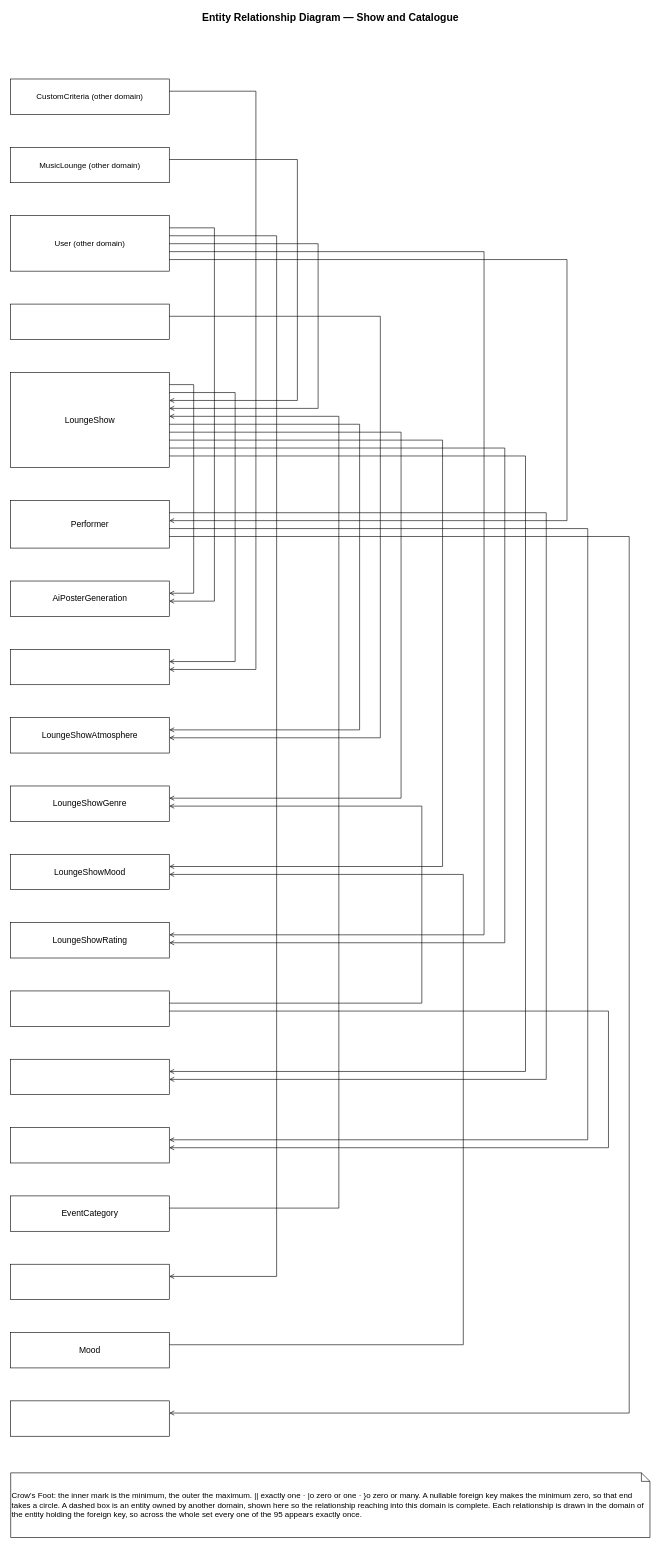
Some shapes in this 661 by 1548 pixel diagram are drawn without their labels. Each missing label, with the box of its shape:
EventCustomValue: (10, 649, 169, 685)
EventModeration: (10, 1264, 169, 1300)
MusicGenre: (10, 990, 169, 1026)
Performance: (10, 1059, 169, 1095)
PerformerGenre: (10, 1127, 169, 1163)
PerformerSocialLink: (10, 1400, 169, 1436)
VenueAtmosphere (other domain): (10, 303, 169, 339)
